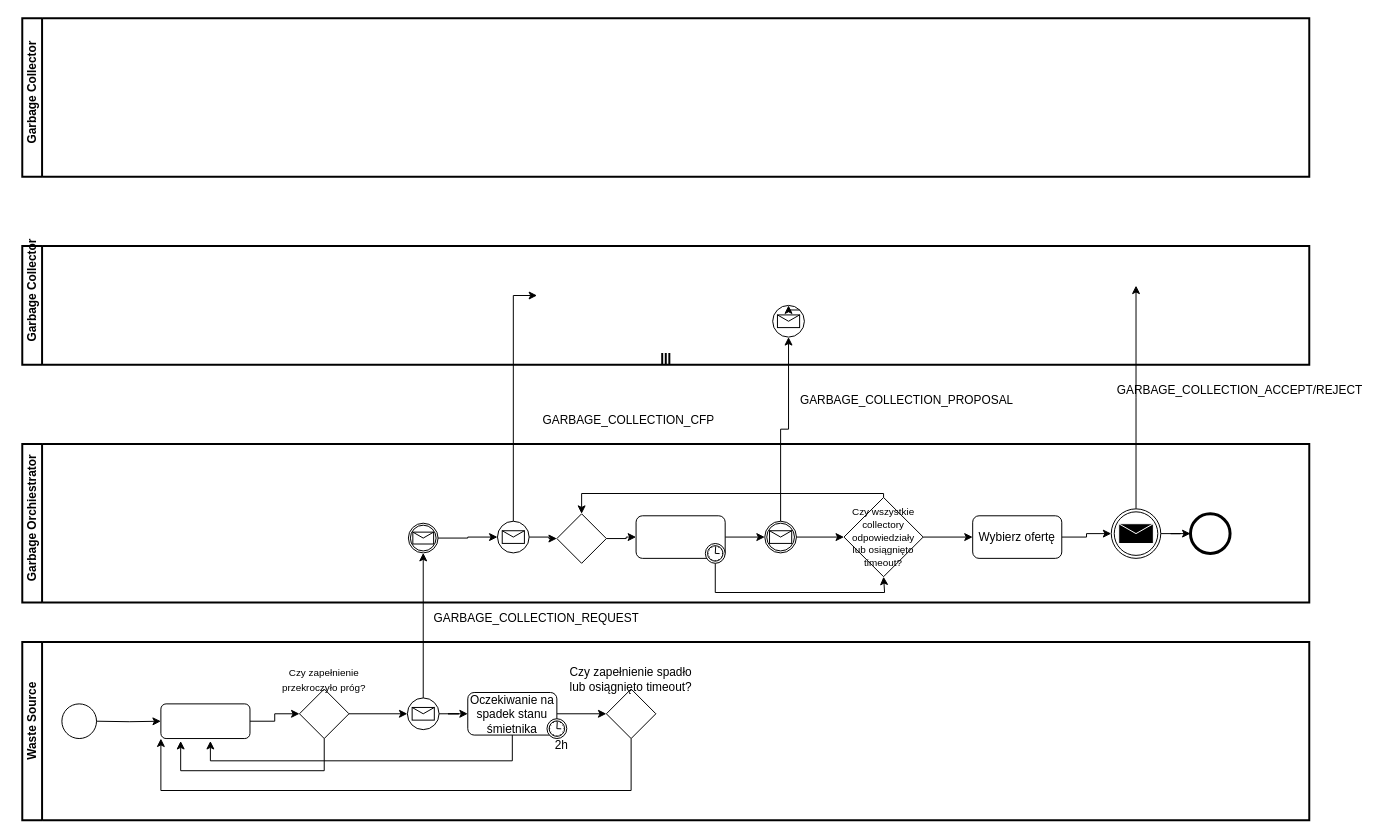
Some shapes in this 1395 by 838 pixel diagram are drawn without their labels. Each missing label, with the box of its shape:
Oczekiwanie na propozycje: (635, 515, 725, 558)
Odczytaj stan zapełnienia: (160, 703, 250, 739)
